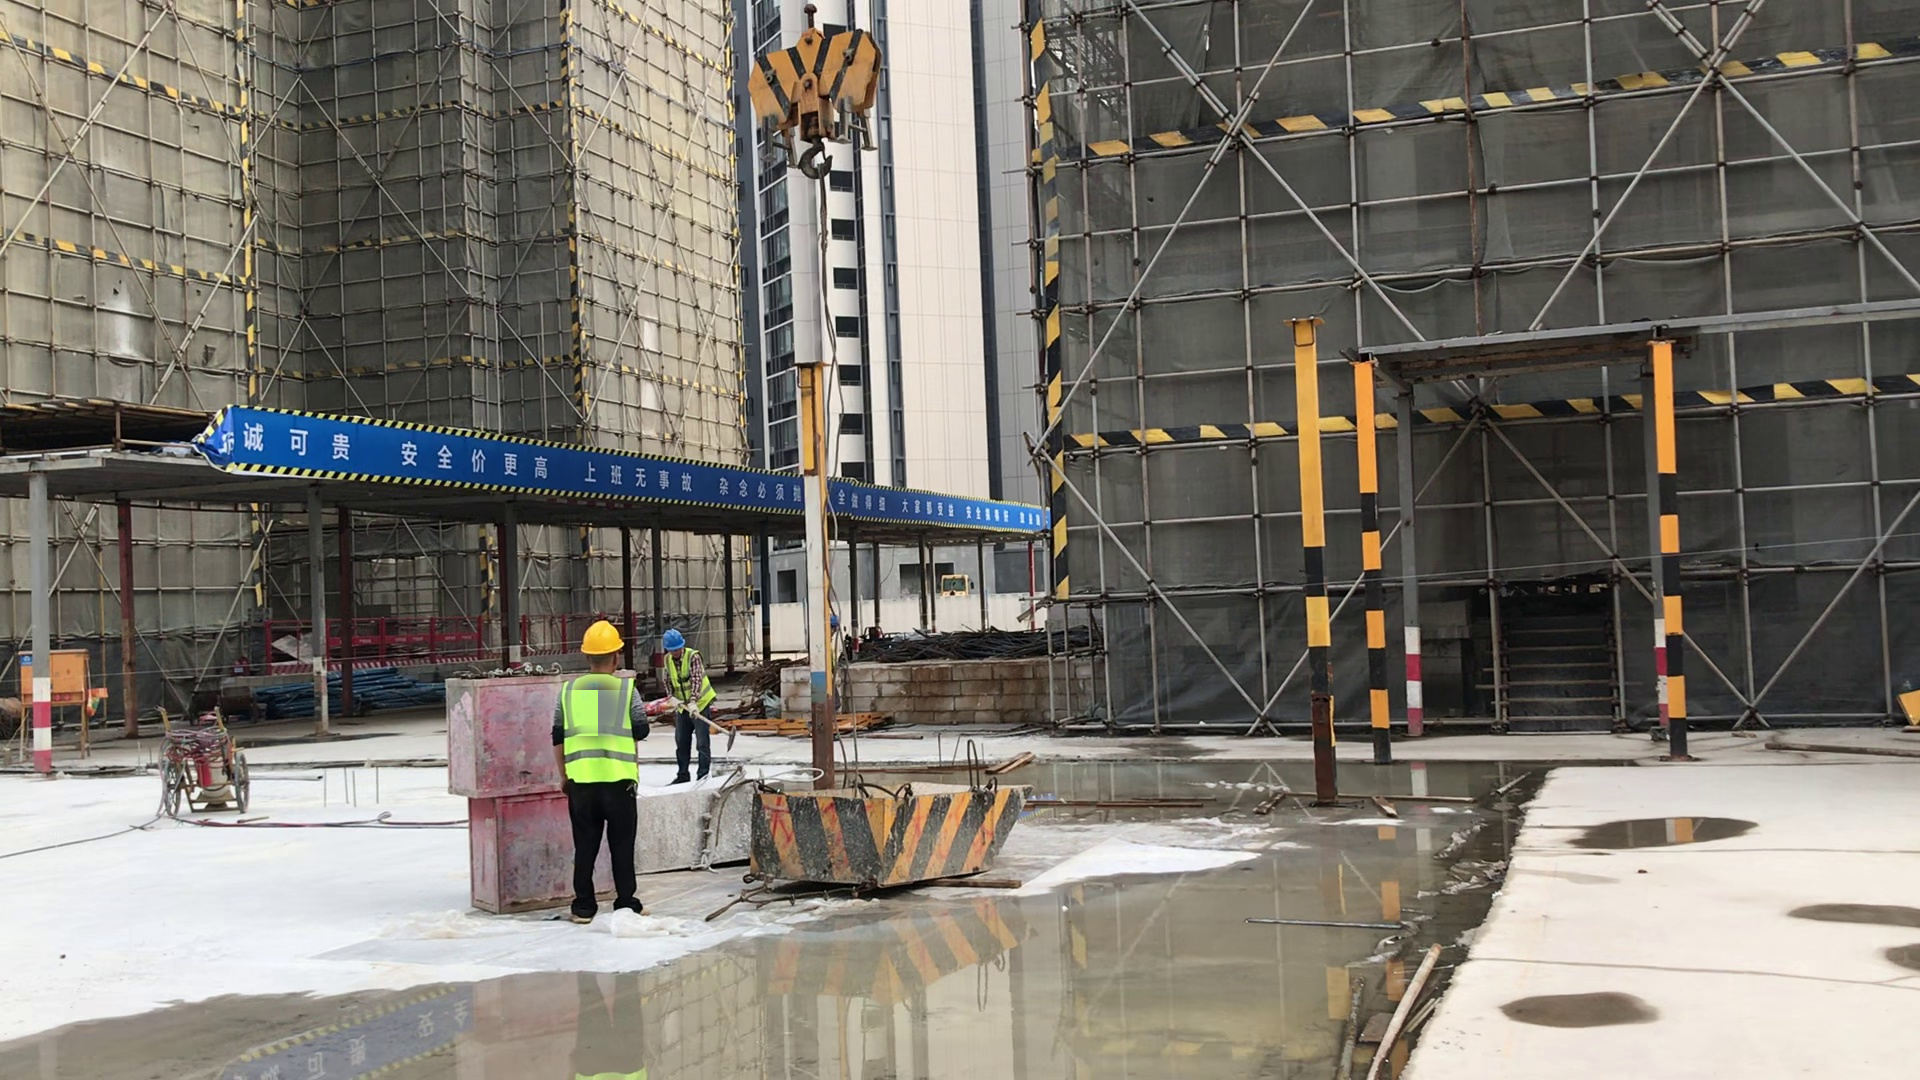ebox: (15, 649, 88, 700)
fence: (269, 612, 597, 673)
handcart: (156, 697, 251, 815)
helmet: (581, 618, 623, 658), (661, 630, 686, 652)
hook: (744, 4, 885, 177)
hopper: (754, 781, 1023, 900), (640, 779, 781, 857)
person: (553, 621, 654, 924), (660, 628, 717, 786)
slogan: (213, 400, 1047, 542)
vest: (562, 674, 641, 784), (663, 649, 715, 710)
